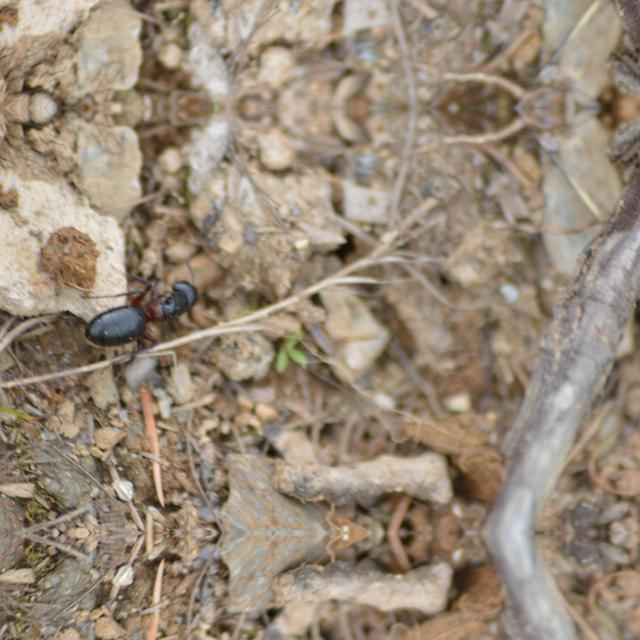Camponotus: (60, 258, 230, 362)
